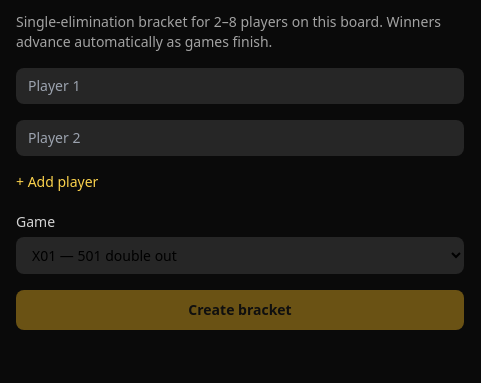
it: Tournament setup › surfaces validation errors (duplicate names)
In the field with placeholder "Player 1": (240, 86) left=16, top=68, right=464, bottom=104, type "Ann"
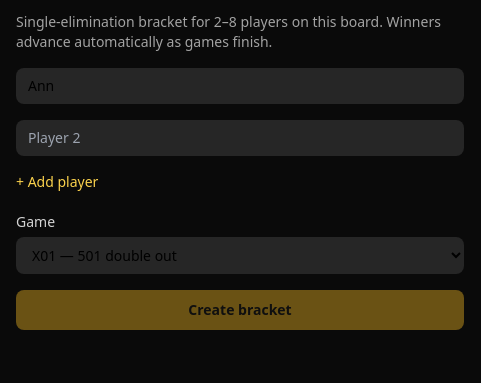
In the field with placeholder "Player 2": (240, 138) left=16, top=120, right=464, bottom=156, type "Ann"
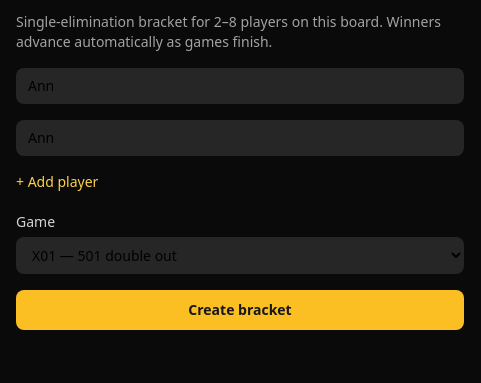
Click the button "Create bracket": (240, 310) left=16, top=290, right=464, bottom=330
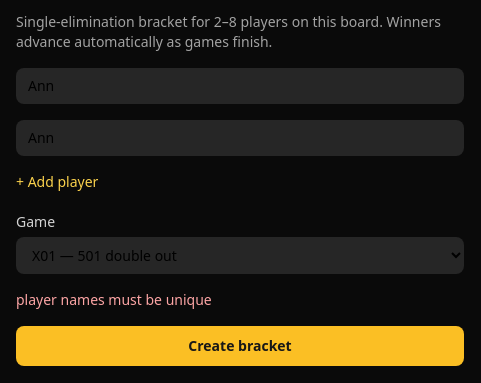
Result: the message shows "unique" at left=16, top=290, right=212, bottom=309
